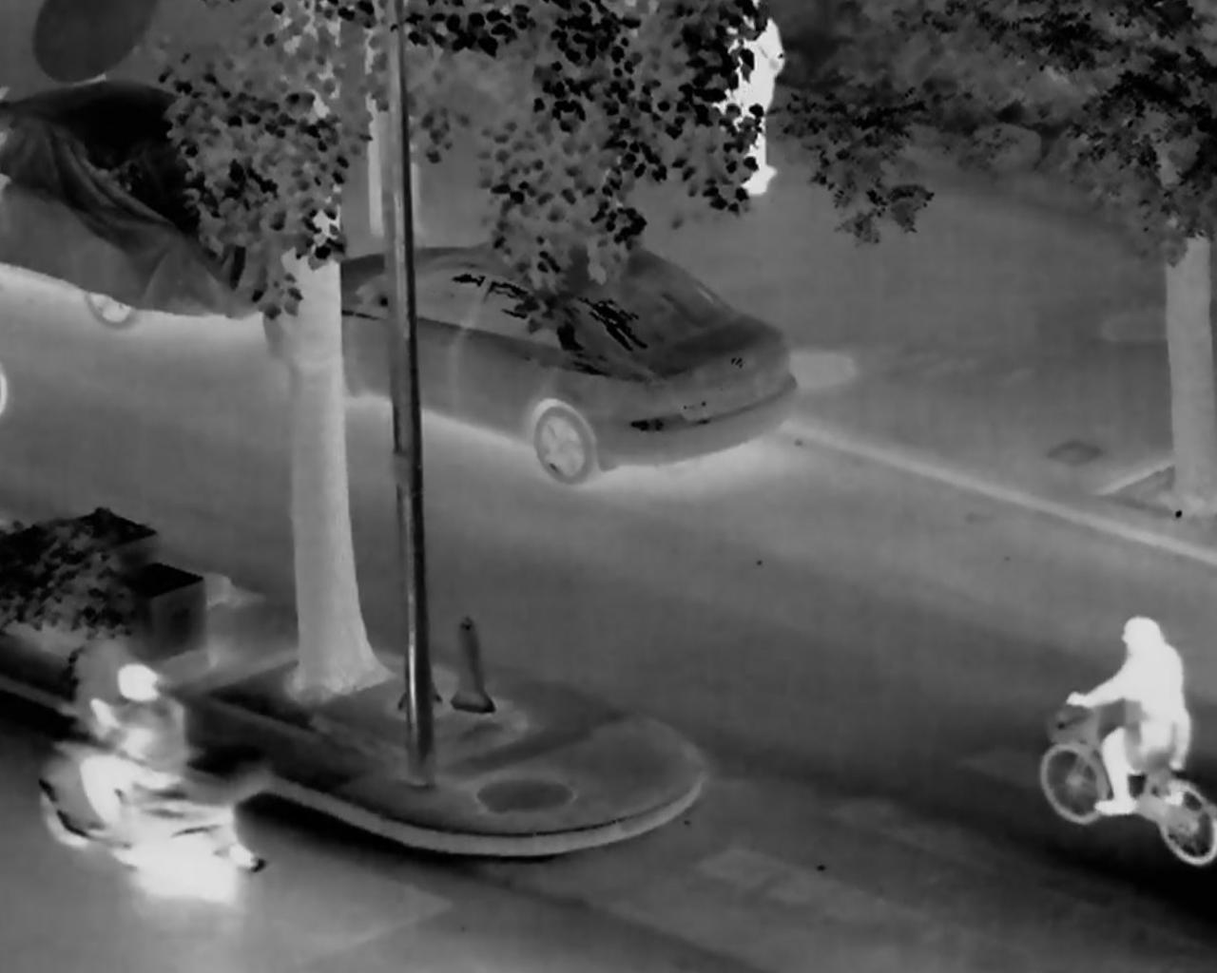person: (1066, 617, 1191, 817), (80, 661, 189, 834)
